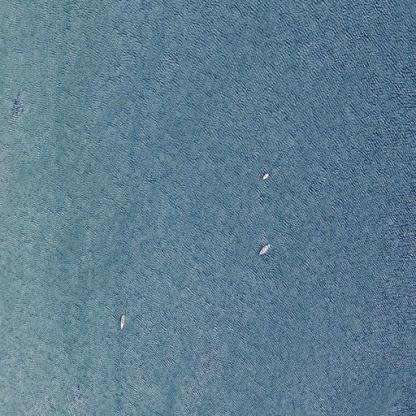ship: (112, 308, 132, 333), (254, 238, 276, 259), (258, 166, 270, 184)
